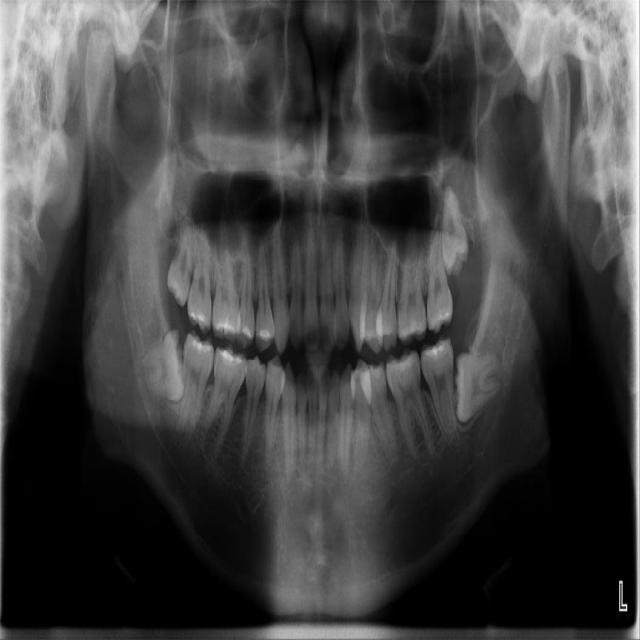3M ESPE Implant: (164, 217, 198, 307)
52: (202, 338, 258, 392), (174, 328, 226, 377), (416, 336, 458, 381), (209, 301, 244, 342), (425, 285, 453, 335), (187, 288, 212, 334), (233, 312, 258, 347), (254, 315, 275, 352)
73: (591, 548, 602, 572)
BioHorizons Implant: (425, 214, 457, 336)
BioLife Implant: (439, 184, 470, 276)
Biomet 3i Implant: (454, 351, 500, 421)
Blue Sky Bio Implant: (418, 335, 462, 453)
Caries: (184, 226, 213, 334)
Implant: (175, 329, 218, 435)
Keystone Dental Implant: (140, 327, 184, 404)
